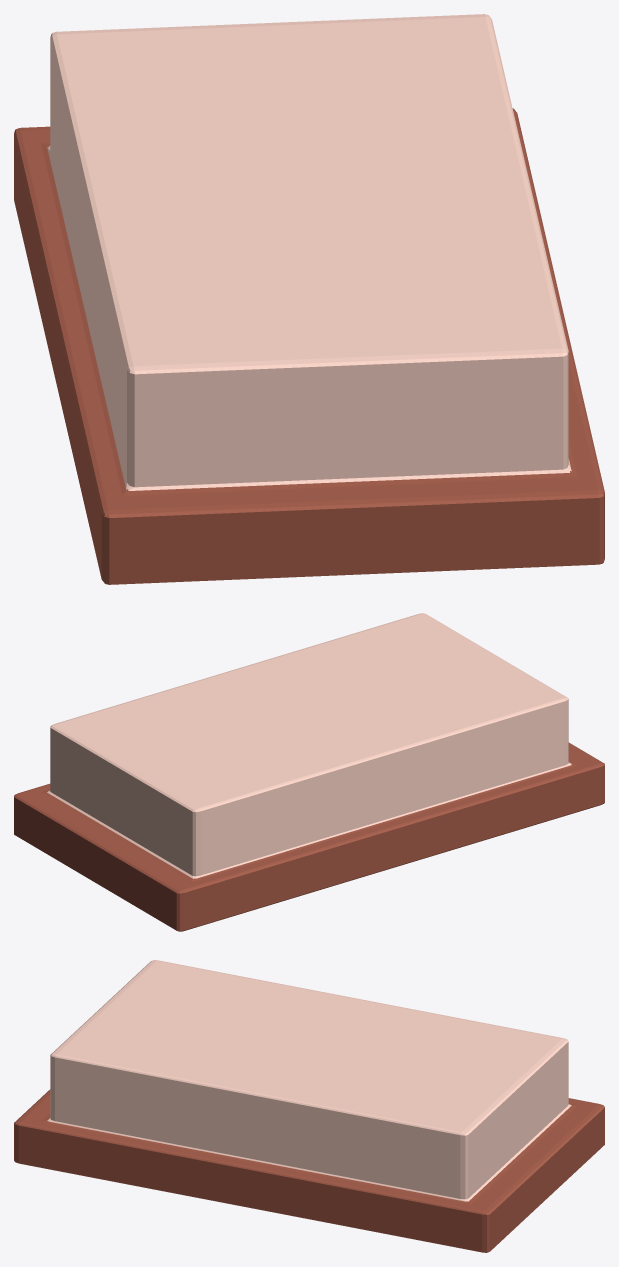
The model's file is item-stand7.fbx.
The picture shows the model from 3 angles, top to bottom: view 1: azimuth 30°, elevation 25°; view 2: azimuth 150°, elevation 25°; view 3: azimuth 270°, elevation 25°; orthographic projection. The views are drawn at different scales.
Parts seen in each view (by area): view 1: Cube.029; view 2: Cube.029; view 3: Cube.029.
Boxes of the visible parts, box(x1,y1,x2,y2) form: Cube.029: box(14, 14, 604, 584); Cube.029: box(14, 613, 604, 931); Cube.029: box(14, 960, 604, 1252).
Size of the model in its own units: 972 by 244 by 1216.
